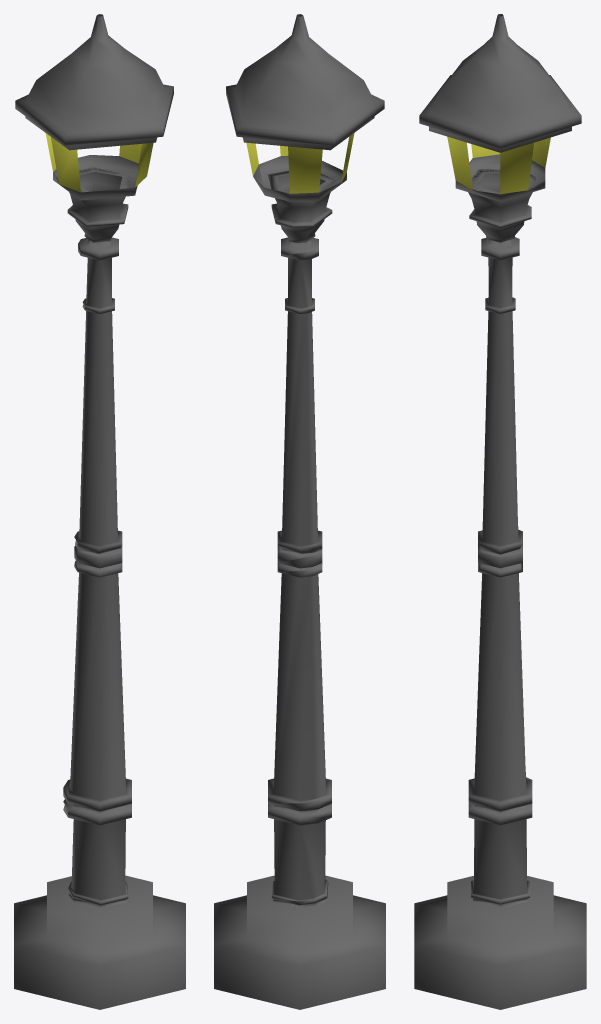
File: Street Light.fbx
The picture shows the model from 3 angles, left to right: view 1: azimuth 30°, elevation 25°; view 2: azimuth 150°, elevation 25°; view 3: azimuth 270°, elevation 25°; orthographic projection.
Parts seen in each view (by area): view 1: Lamp; view 2: Lamp; view 3: Lamp.
Boxes of the visible parts, box(x1,y1,x2,y2) form: Lamp: box(14, 14, 185, 1009); Lamp: box(214, 14, 385, 1009); Lamp: box(414, 14, 586, 1009).
Size of the model in its own units: 20.28 by 107 by 17.56.
